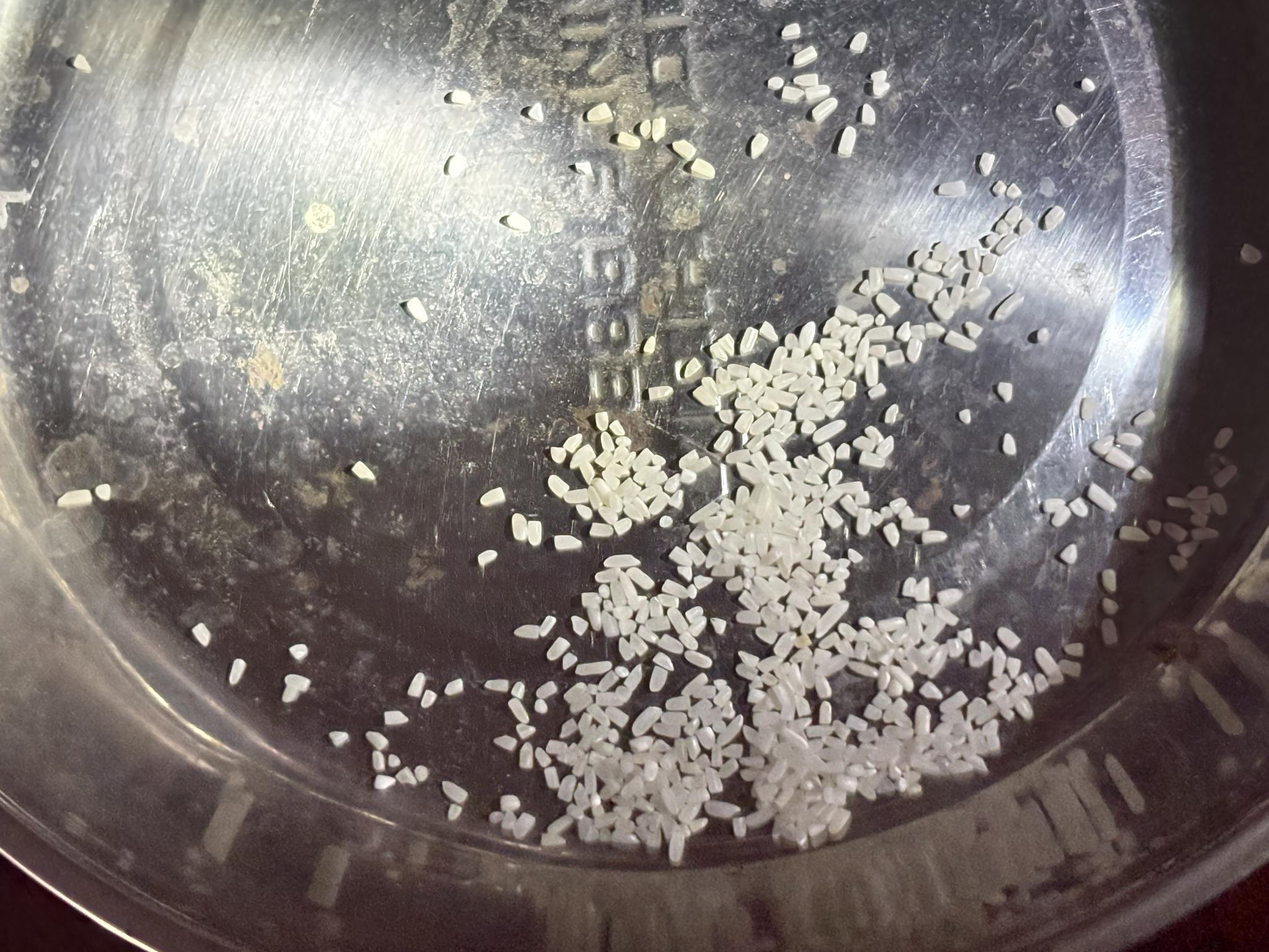Rice-th-y-nh: (770, 787, 812, 846), (813, 596, 851, 640), (1034, 646, 1065, 686), (616, 570, 645, 611), (677, 786, 706, 825), (630, 704, 663, 738), (665, 824, 692, 865), (1086, 482, 1119, 515), (745, 800, 779, 832), (741, 724, 774, 755), (812, 417, 846, 447), (816, 651, 850, 680), (717, 714, 746, 747), (850, 336, 873, 377), (979, 719, 1005, 755), (995, 205, 1024, 237), (929, 720, 955, 755), (575, 657, 613, 680), (778, 725, 810, 752), (784, 662, 808, 698), (835, 125, 860, 159), (1104, 446, 1135, 473), (735, 461, 766, 487), (763, 386, 798, 409), (883, 262, 915, 287), (943, 329, 976, 353), (810, 96, 838, 124), (927, 646, 950, 680), (690, 499, 720, 525), (593, 688, 626, 711), (681, 672, 709, 699), (569, 443, 596, 471), (888, 664, 915, 692), (772, 630, 797, 660), (625, 566, 655, 591), (938, 690, 968, 715), (863, 266, 887, 297), (737, 325, 761, 356), (507, 511, 531, 542), (767, 345, 790, 377), (963, 696, 990, 723), (586, 701, 612, 729), (441, 779, 469, 805), (931, 602, 959, 628), (512, 812, 537, 841), (666, 606, 690, 636), (598, 610, 622, 640), (555, 774, 579, 804), (652, 719, 683, 742), (847, 658, 879, 680), (882, 723, 914, 745), (763, 434, 788, 462), (546, 635, 571, 663), (656, 632, 684, 657), (692, 385, 720, 410), (796, 320, 819, 350), (901, 513, 931, 536), (875, 292, 901, 318), (996, 625, 1022, 651), (753, 575, 779, 601), (922, 615, 947, 642), (770, 420, 797, 445), (661, 577, 689, 601), (862, 356, 883, 388), (646, 666, 670, 694), (771, 472, 795, 500), (775, 547, 796, 579), (681, 455, 713, 476), (683, 648, 713, 670), (749, 411, 775, 436), (604, 704, 630, 729), (569, 690, 594, 716), (622, 663, 645, 691), (507, 697, 530, 725), (916, 270, 944, 293), (545, 814, 574, 836), (946, 283, 968, 312), (659, 708, 689, 729), (988, 647, 1009, 677), (748, 361, 773, 386), (406, 297, 430, 323), (822, 784, 848, 808), (1054, 104, 1080, 128), (799, 609, 822, 636), (962, 269, 985, 296), (767, 757, 790, 784), (703, 766, 725, 794), (853, 508, 875, 536), (660, 786, 681, 815), (1190, 524, 1219, 545), (596, 669, 620, 694), (821, 505, 845, 530), (995, 232, 1019, 257), (793, 44, 818, 68), (833, 303, 859, 326), (914, 601, 937, 627), (964, 753, 990, 776), (804, 82, 830, 105), (631, 447, 654, 473), (682, 772, 709, 794), (771, 370, 799, 391), (514, 621, 542, 642), (877, 614, 906, 634), (627, 632, 650, 657), (1050, 504, 1073, 529), (745, 432, 770, 455), (628, 732, 653, 755), (685, 541, 707, 567), (648, 491, 670, 517), (506, 211, 532, 233), (962, 245, 984, 271), (711, 375, 737, 397), (912, 577, 934, 603), (791, 692, 813, 718), (644, 613, 671, 634), (757, 653, 784, 674), (749, 451, 772, 475), (547, 474, 570, 498), (652, 651, 676, 674), (717, 756, 740, 780), (788, 372, 812, 395), (839, 494, 861, 519), (904, 337, 926, 362), (874, 434, 896, 459), (941, 253, 963, 278), (1057, 657, 1082, 679), (968, 729, 990, 754), (616, 130, 641, 152), (191, 622, 212, 648), (713, 429, 734, 455), (816, 441, 837, 467), (576, 460, 597, 486), (637, 483, 663, 504), (668, 546, 694, 567), (918, 680, 944, 701), (648, 382, 674, 403), (577, 725, 598, 751), (735, 608, 762, 628), (616, 636, 636, 663), (807, 454, 830, 477), (695, 725, 717, 749), (755, 624, 779, 646), (365, 730, 389, 752), (755, 780, 779, 802), (1016, 672, 1037, 697), (852, 434, 877, 455), (787, 714, 812, 735), (649, 116, 669, 142), (1100, 567, 1120, 593), (284, 673, 311, 692), (228, 658, 247, 685), (845, 712, 868, 734), (823, 398, 846, 420), (687, 615, 709, 638), (569, 614, 591, 637), (833, 638, 856, 660), (678, 448, 700, 471), (630, 496, 652, 519), (883, 347, 906, 369), (768, 575, 791, 597), (704, 509, 727, 531), (734, 410, 755, 434), (352, 461, 376, 482), (806, 722, 834, 740), (735, 661, 759, 682), (988, 673, 1012, 694), (784, 604, 804, 629), (655, 591, 680, 611), (493, 733, 518, 753), (979, 251, 999, 276), (977, 152, 997, 177), (407, 672, 426, 698), (634, 599, 653, 625), (874, 664, 893, 690), (710, 561, 736, 580), (603, 462, 630, 480), (758, 320, 780, 342), (872, 689, 894, 711), (737, 590, 759, 612), (837, 621, 859, 643), (864, 424, 885, 447), (637, 624, 660, 645), (395, 766, 418, 787), (831, 719, 852, 742), (1004, 656, 1024, 680), (683, 735, 702, 760), (726, 447, 751, 466), (819, 352, 838, 377), (542, 765, 561, 790), (598, 504, 619, 526), (772, 408, 793, 430), (968, 647, 989, 669), (683, 357, 704, 379), (687, 815, 709, 836), (821, 315, 842, 337), (835, 356, 855, 379), (592, 738, 615, 758), (538, 615, 557, 639), (708, 743, 727, 767), (618, 751, 637, 775), (817, 700, 835, 725), (768, 458, 793, 476), (484, 677, 510, 694), (563, 433, 584, 454), (623, 503, 644, 524), (746, 381, 767, 402), (616, 616, 637, 637), (558, 718, 579, 739), (477, 548, 498, 569), (819, 631, 841, 651), (945, 637, 965, 659), (811, 646, 833, 666), (704, 529, 724, 551), (923, 320, 945, 340), (737, 649, 760, 668), (730, 815, 749, 838), (895, 320, 914, 343), (900, 576, 919, 599), (679, 759, 702, 778), (859, 103, 878, 126), (997, 380, 1016, 403), (721, 742, 745, 760), (794, 72, 819, 89), (678, 631, 699, 651), (515, 721, 536, 741), (565, 802, 586, 822), (663, 472, 682, 494), (757, 395, 779, 414), (710, 615, 729, 637), (726, 362, 749, 380), (755, 563, 779, 580), (574, 502, 594, 522), (594, 449, 614, 469), (703, 548, 723, 568), (601, 471, 621, 491), (534, 747, 553, 768), (613, 517, 634, 536), (713, 687, 732, 708), (854, 311, 875, 330), (867, 382, 888, 401), (612, 603, 634, 621), (823, 372, 845, 390), (1033, 672, 1051, 694), (800, 557, 822, 575), (373, 774, 396, 791), (577, 712, 593, 736), (549, 445, 568, 465), (682, 717, 701, 737), (799, 417, 818, 437), (863, 703, 883, 722), (854, 488, 872, 509), (840, 379, 858, 400), (528, 101, 546, 122), (826, 467, 844, 488), (858, 726, 879, 744), (810, 482, 831, 500), (821, 385, 842, 403), (978, 640, 995, 662), (594, 410, 611, 432), (692, 573, 714, 590), (819, 336, 842, 352), (669, 488, 685, 511), (842, 743, 858, 766), (420, 689, 438, 709), (983, 230, 1001, 250), (599, 431, 616, 452), (782, 332, 800, 351), (561, 652, 579, 671), (868, 342, 887, 360), (886, 762, 904, 781), (909, 323, 927, 342), (725, 575, 744, 593), (747, 686, 765, 705), (811, 549, 832, 565), (735, 376, 753, 394), (510, 681, 527, 700), (847, 763, 866, 780), (721, 700, 736, 721), (609, 419, 626, 437), (768, 598, 786, 615), (717, 408, 735, 425), (677, 564, 694, 582), (835, 443, 852, 461), (832, 566, 851, 582), (679, 469, 698, 485), (847, 547, 864, 564), (613, 663, 631, 679), (720, 498, 736, 516), (810, 342, 825, 361), (615, 434, 633, 449), (621, 450, 636, 468), (788, 346, 807, 360), (488, 809, 504, 824), (659, 514, 674, 529), (879, 505, 894, 520)
